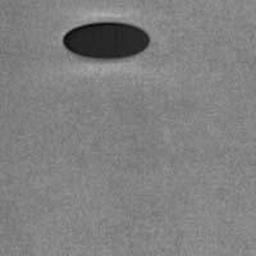Punching: (63, 23, 151, 60)
